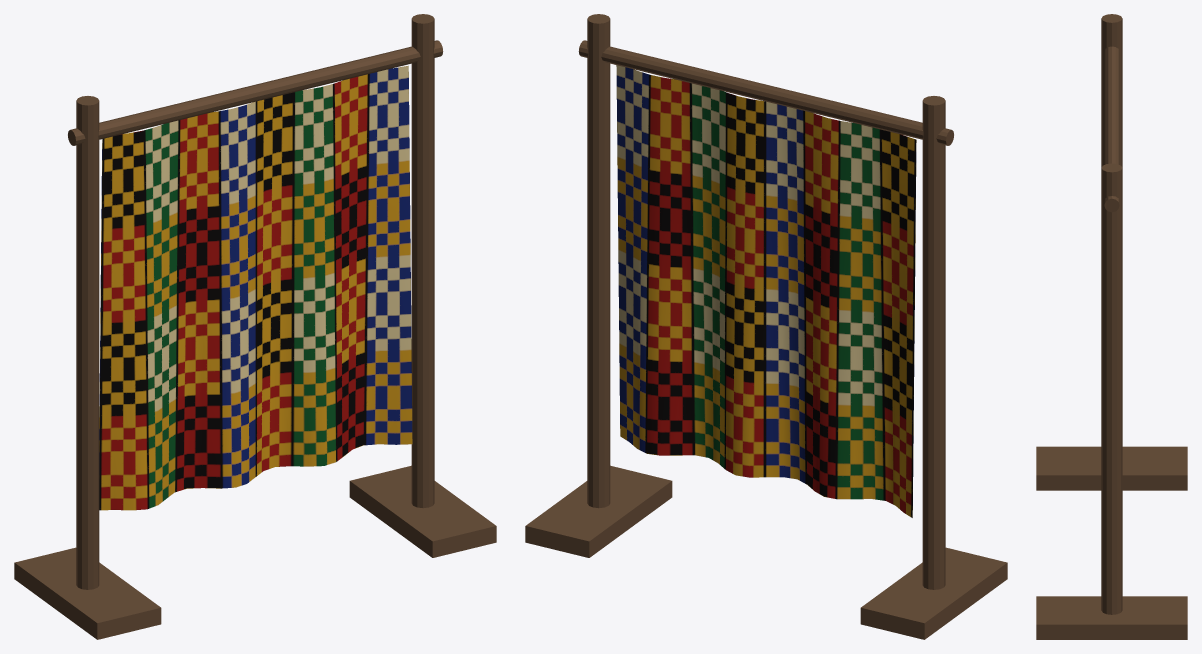
File: exhibit5_kente_stand.glb
The picture shows the model from 3 angles, left to right: view 1: azimuth 30°, elevation 25°; view 2: azimuth 150°, elevation 25°; view 3: azimuth 270°, elevation 25°; orthographic projection. The views are drawn at different scales.
Parts seen in each view (by area): view 1: kente_cloth, kente_frame; view 2: kente_cloth, kente_frame; view 3: kente_frame.
Boxes of the visible parts, x1,y1,x2,y2 form: kente_cloth: (99, 65, 412, 510); kente_frame: (14, 14, 496, 639); kente_cloth: (616, 65, 916, 517); kente_frame: (525, 14, 1007, 639); kente_frame: (1036, 14, 1187, 639).
Size of the model in its own units: 1 by 1.2 by 0.36.
2 materials, 1 textured.
